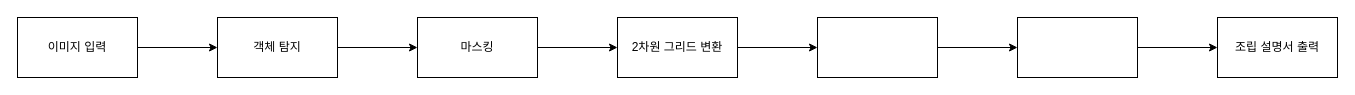
Image size: 1355x95. Some labels were removed from this diagram. The centre of each missing label's shape, as x and y in pixels:
레고 블록 색상 매칭: (x=877, y=47)
조립 과정 생성: (x=1077, y=47)
